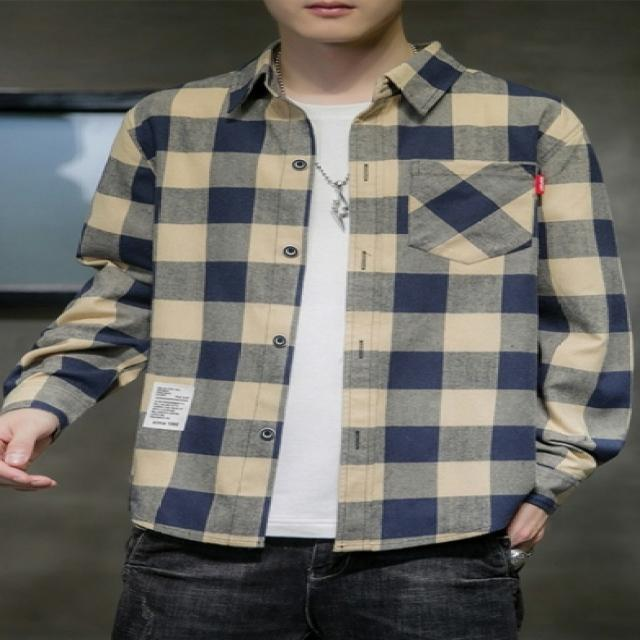plaid: (48, 62, 638, 537)
